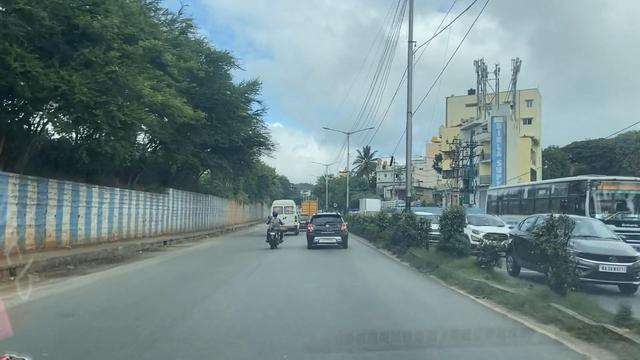HMV: (271, 198, 298, 233)
LMV: (302, 212, 347, 251), (266, 210, 281, 253)
